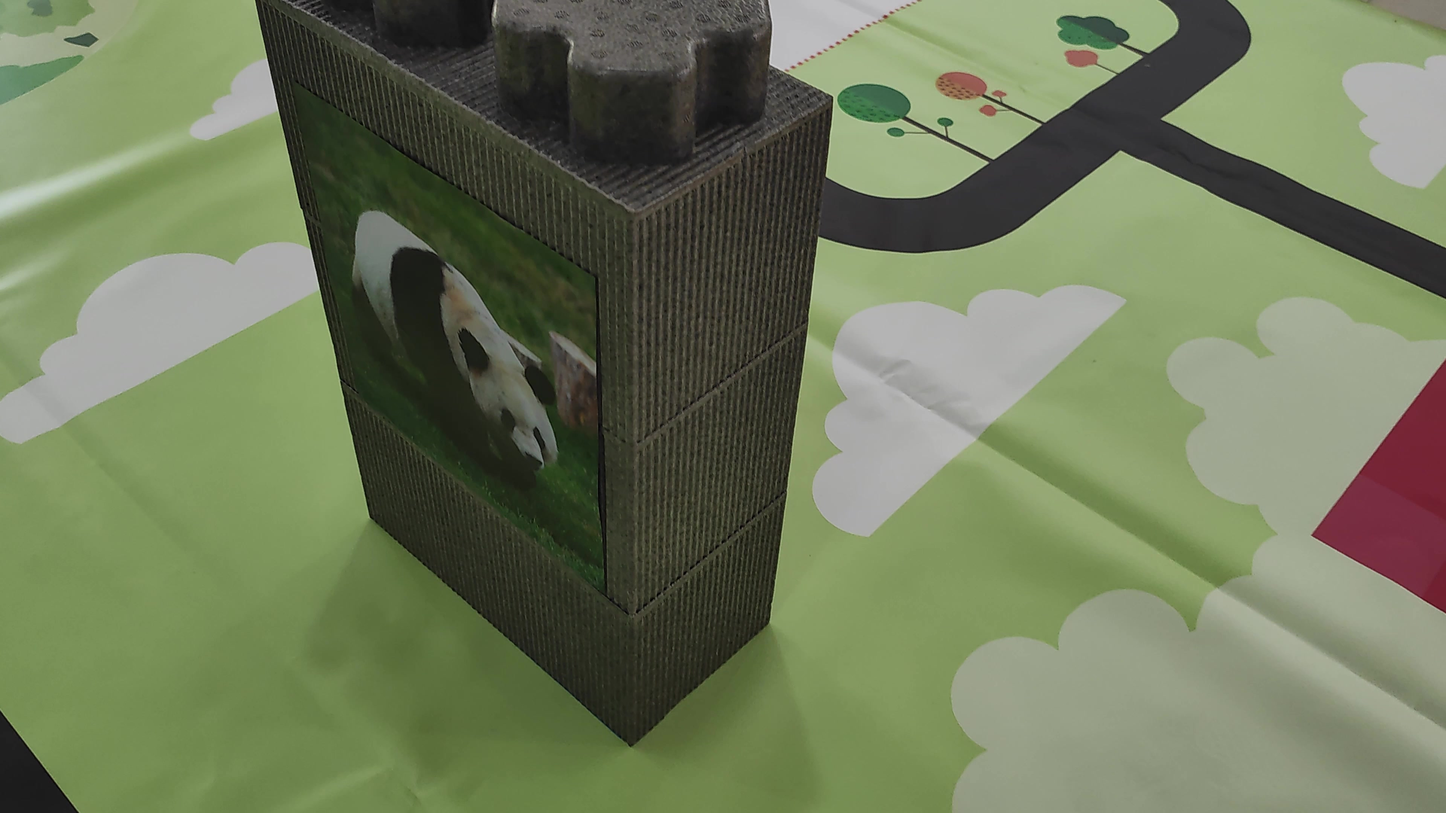panda: (332, 206, 576, 502)
